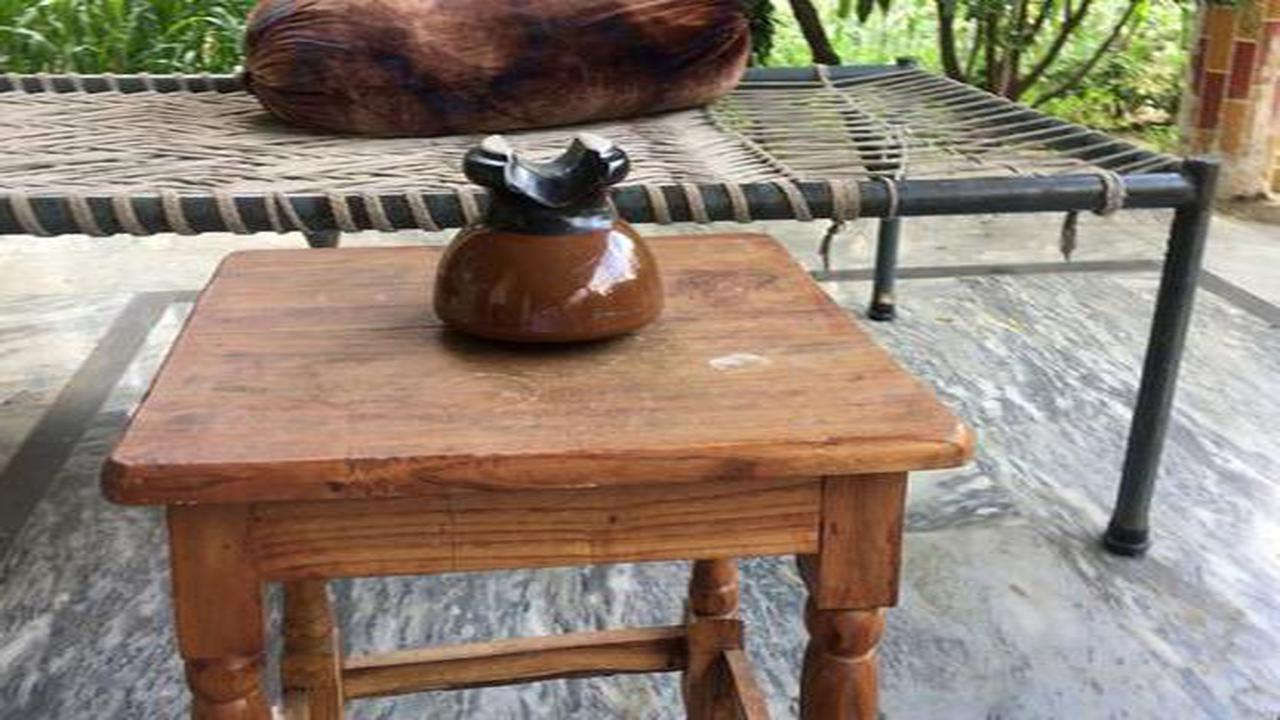insulator_pin: (425, 111, 684, 366)
